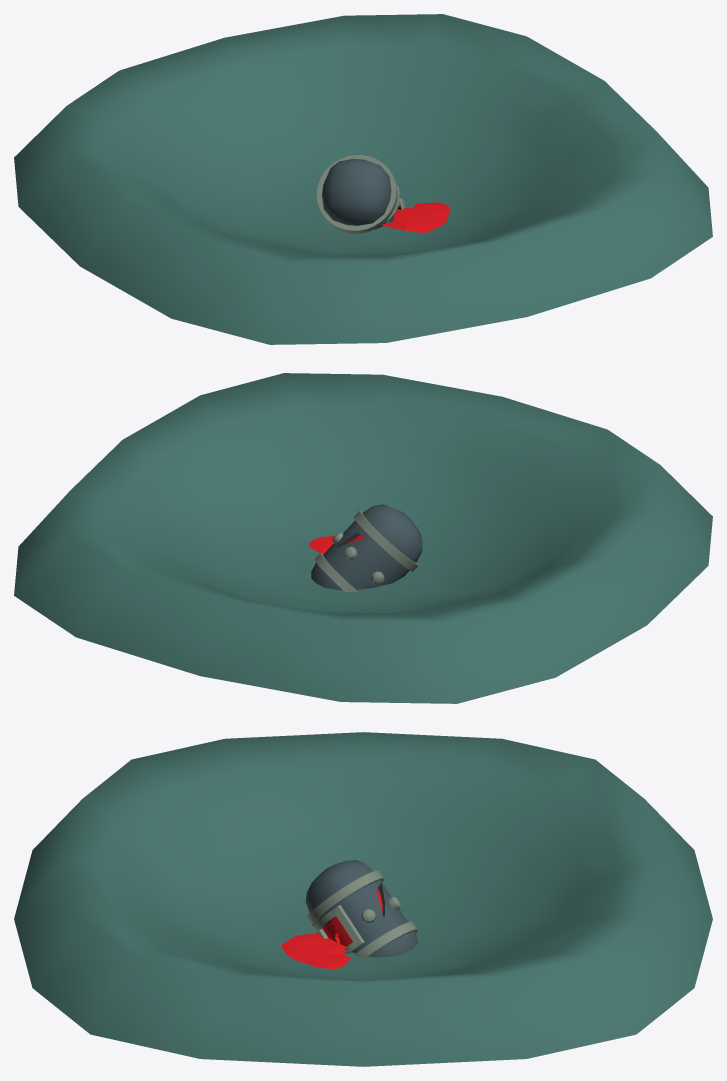
The model's file is Crater.fbx.
The picture shows the model from 3 angles, top to bottom: view 1: azimuth 30°, elevation 25°; view 2: azimuth 150°, elevation 25°; view 3: azimuth 270°, elevation 25°; orthographic projection. The views are drawn at different scales.
Visible parts, largest first — view 1: Plane, Cube, Cylinder.001, Sphere; view 2: Plane, Cube, Cylinder.001; view 3: Plane, Cube, Sphere, Cylinder.001, Plane.001, Cylinder, Sphere.001.
Boxes of the visible parts, x1,y1,x2,y2 form: Plane: (14,14,712,344); Cube: (322,158,397,229); Cylinder.001: (316,155,397,233); Sphere: (382,208,447,232); Plane: (14,373,712,703); Cube: (311,504,422,590); Cylinder.001: (353,510,418,571); Plane: (14,732,712,1066); Cube: (305,860,418,957); Sphere: (282,933,347,962); Cylinder.001: (307,870,384,925); Plane.001: (314,905,364,954); Cylinder: (354,921,417,957); Sphere.001: (304,954,350,968).
Bounding box in the file's own units: 1869 × 362 × 1869.
